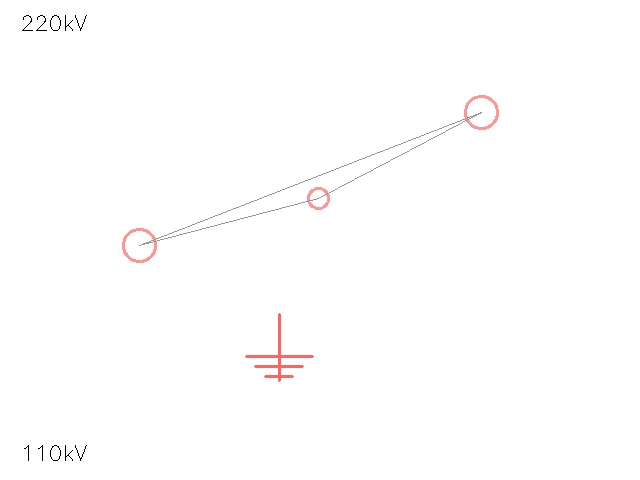disconnect_switch: (449, 80, 513, 144)
ground: (246, 314, 312, 380)
load_break_switch: (297, 177, 339, 219)
surge_arrester: (107, 213, 171, 277)
